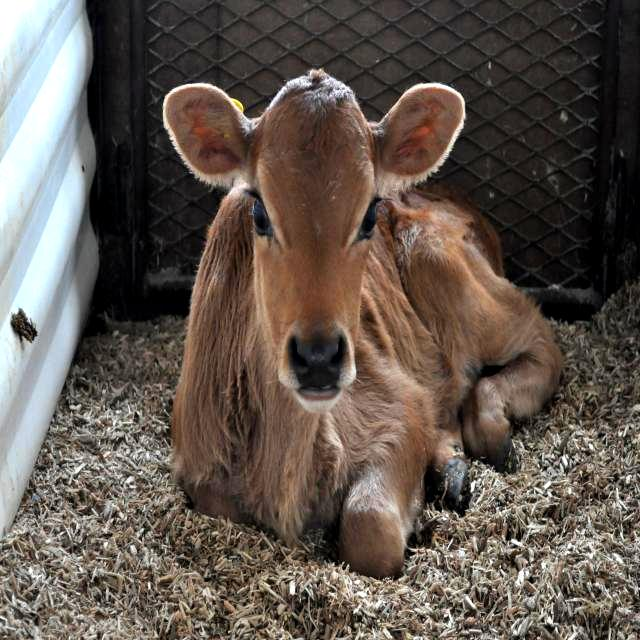COW: (164, 72, 562, 576)
